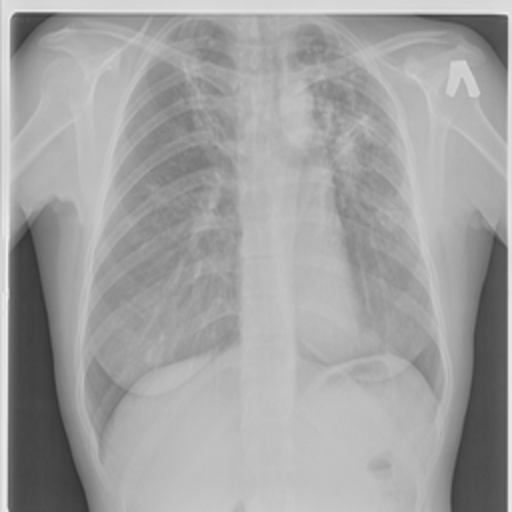TB: (308, 32, 399, 221)
